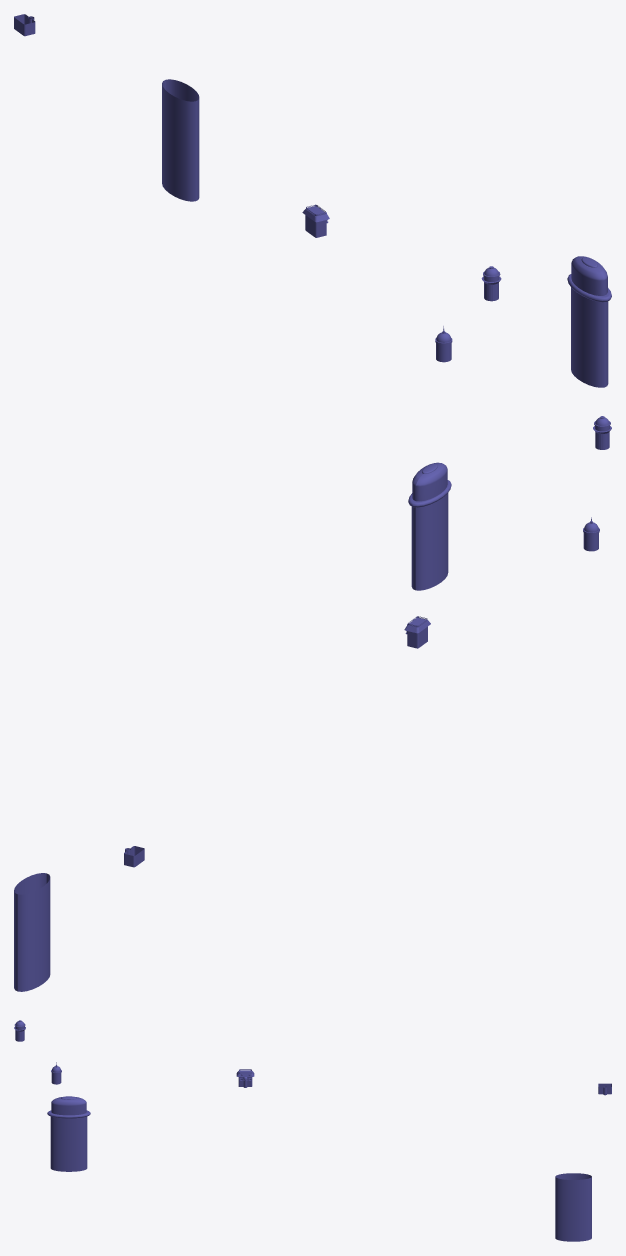
Rendered from MidGroundLow.fbx.
3 renders of one model, top to bottom at view 1: azimuth 30°, elevation 25°; view 2: azimuth 150°, elevation 25°; view 3: azimuth 270°, elevation 25°, orthographic. The views are drawn at different scales.
Visible parts, largest first — view 1: FlatBuilding_high, flatBottom_low, polySurface411, Icecream_high; view 2: FlatBuilding_high, flatBottom_low; view 3: FlatBuilding_high, flatBottom_low.
Boxes of the visible parts, x1,y1,x2,y2 form: FlatBuilding_high: (567,256,611,387); flatBottom_low: (162,79,199,201); polySurface411: (302,204,329,237); Icecream_high: (481,266,501,301); FlatBuilding_high: (408,462,451,590); flatBottom_low: (14,873,50,991); FlatBuilding_high: (47,1096,90,1171); flatBottom_low: (555,1173,591,1241).
Size of the model in its own units: 59.23 by 91.12 by 281.
